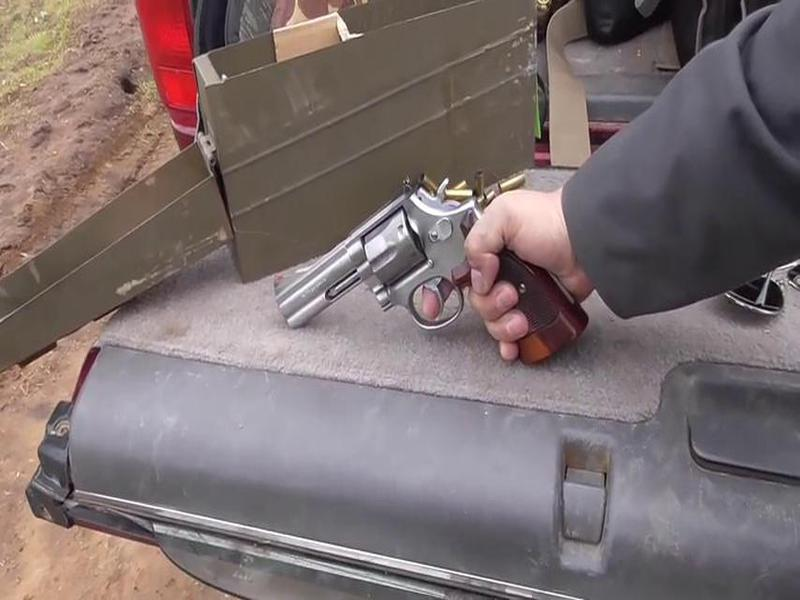Revolver: (285, 172, 639, 418)
